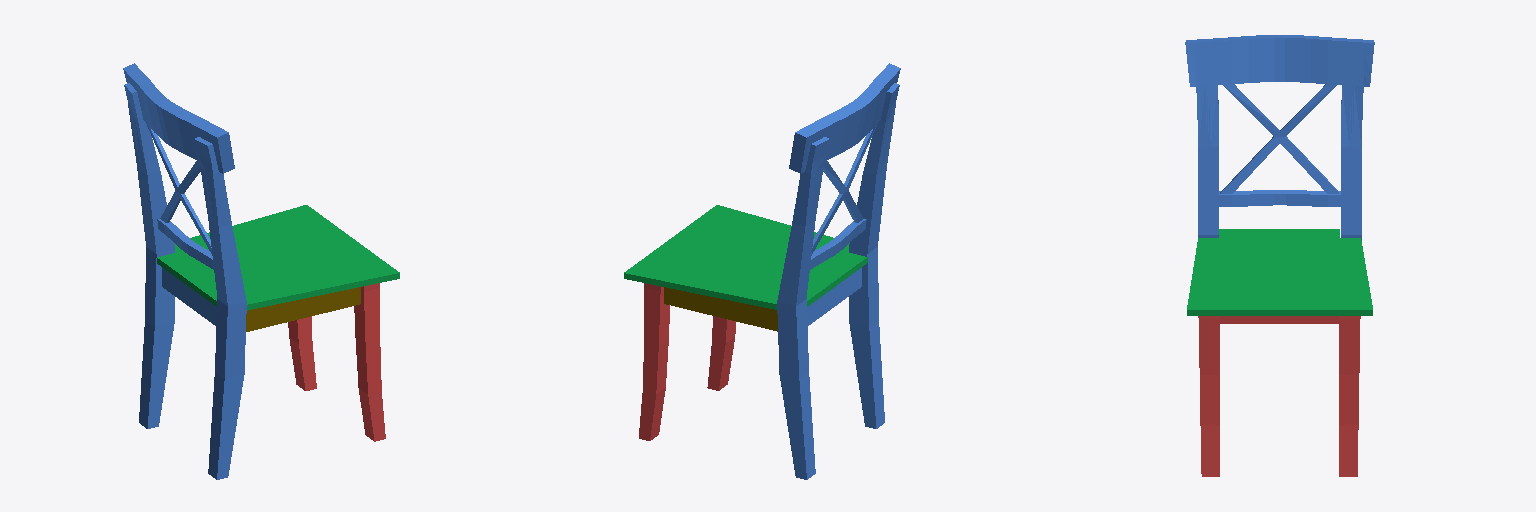
File: TOTALE.obj
3 views of the same model, side by side, from view 1: azimuth 30°, elevation 25°; view 2: azimuth 150°, elevation 25°; view 3: azimuth 270°, elevation 25° (orthographic).
Visible parts, largest first — view 1: schienale, seduta, gamba_anteriore, laterali001; view 2: schienale, seduta, gamba_anteriore, laterali; view 3: schienale, seduta, gamba_anteriore.
Boxes of the visible parts, box(x1,y1,x2,y2) form: schienale: box(123, 63, 246, 479); seduta: box(157, 205, 399, 310); gamba_anteriore: box(288, 283, 385, 441); laterali001: box(246, 287, 360, 331); schienale: box(777, 63, 900, 479); seduta: box(624, 205, 867, 309); gamba_anteriore: box(639, 283, 735, 440); laterali: box(664, 287, 777, 331); schienale: box(1185, 35, 1374, 240); seduta: box(1187, 229, 1372, 315); gamba_anteriore: box(1198, 316, 1360, 476).
Bounding box in the file's own units: 621 × 1073 × 522.